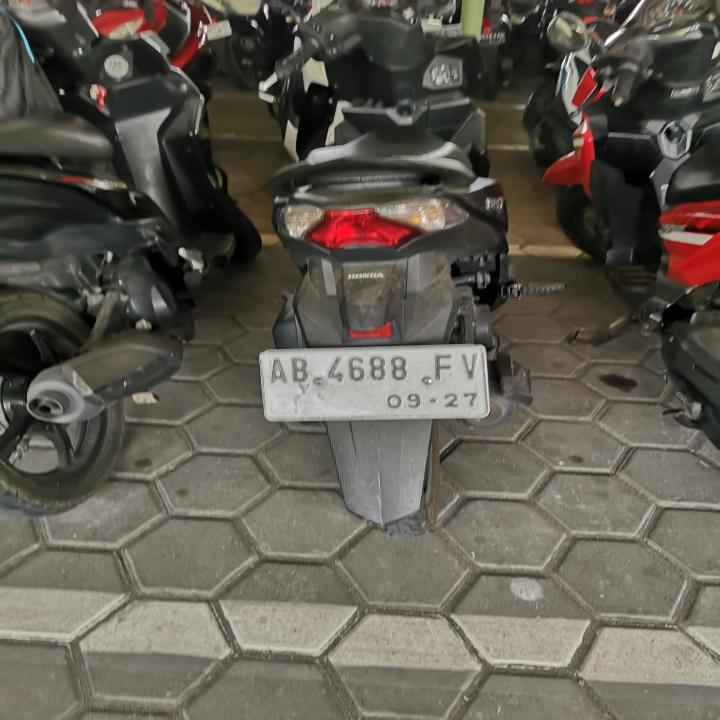plate: (256, 341, 493, 424)
